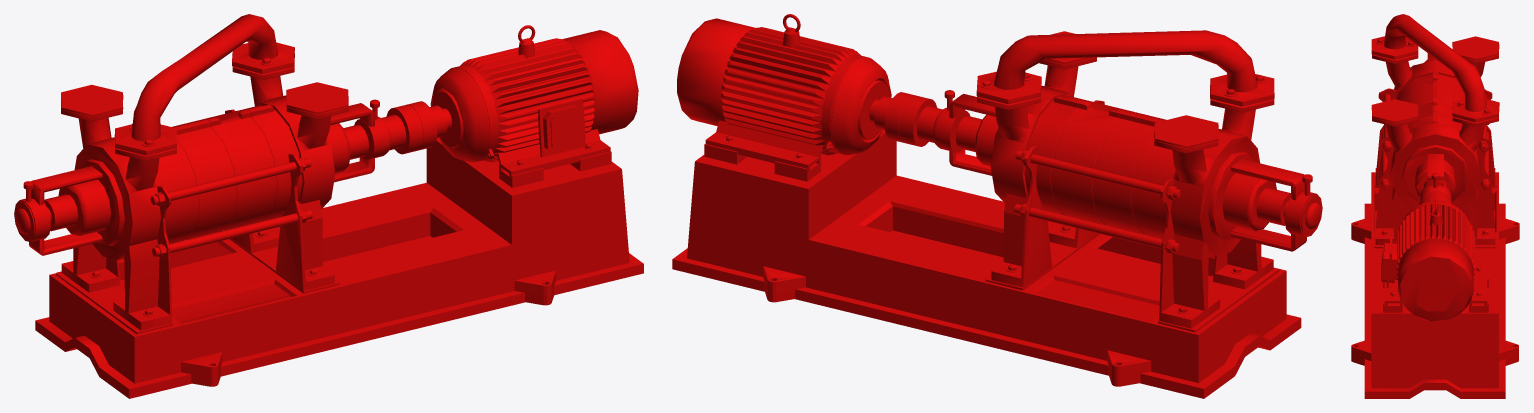
The model's file is RedPump.fbx.
3 renders of one model, left to right at view 1: azimuth 30°, elevation 25°; view 2: azimuth 150°, elevation 25°; view 3: azimuth 270°, elevation 25°, orthographic. The views are drawn at different scales.
Visible parts, largest first — view 1: Pump_LOD0; view 2: Pump_LOD0; view 3: Pump_LOD0.
Part boxes in pixels (<box>): Pump_LOD0: <box>14,14,643,398</box>; Pump_LOD0: <box>672,14,1322,398</box>; Pump_LOD0: <box>1351,14,1519,398</box>.
Size of what is drawn, in the model's own units: 557 by 258 by 181.
